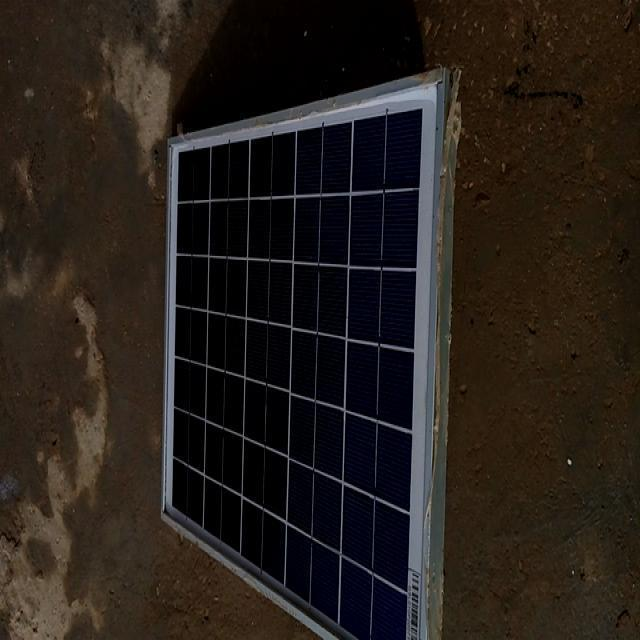Normal Solar Panel: (162, 68, 462, 639)
